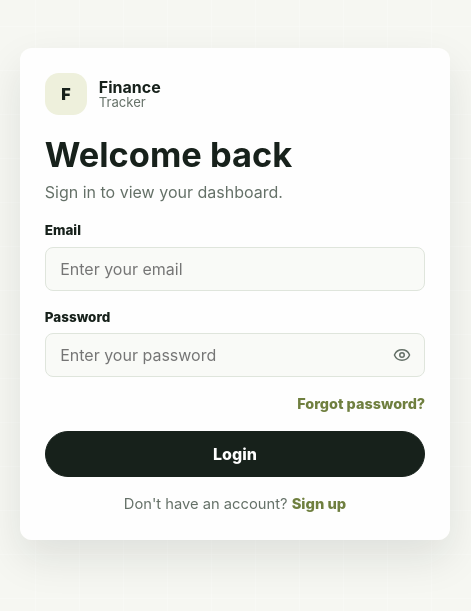
it: LoginForm › shows validation errors when submitted empty
This screenshot has width=471, height=611.
Click the button "Login" at (235, 454), box [45,431,425,477]
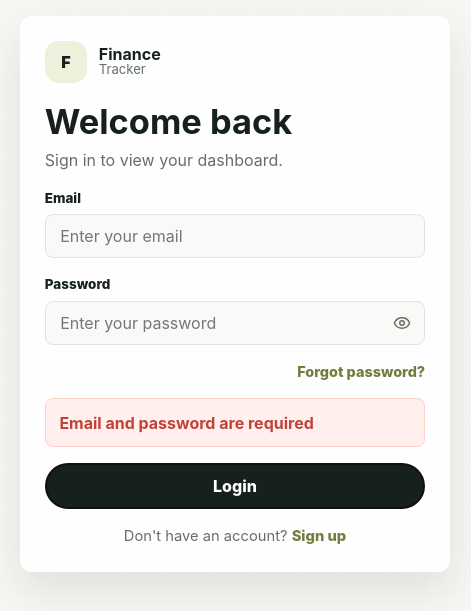
Check: the text "Email and password are required" is shown, box [45,398,425,447]
